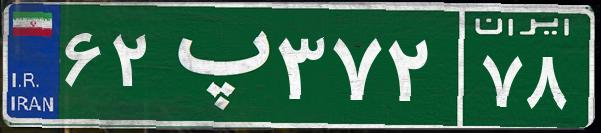2: (385, 28, 445, 110), (110, 28, 158, 105)
3: (273, 28, 330, 110)
6: (57, 26, 110, 107)
7: (330, 28, 385, 110), (475, 38, 525, 113)
8: (525, 38, 570, 115)
پ: (158, 15, 273, 115)
